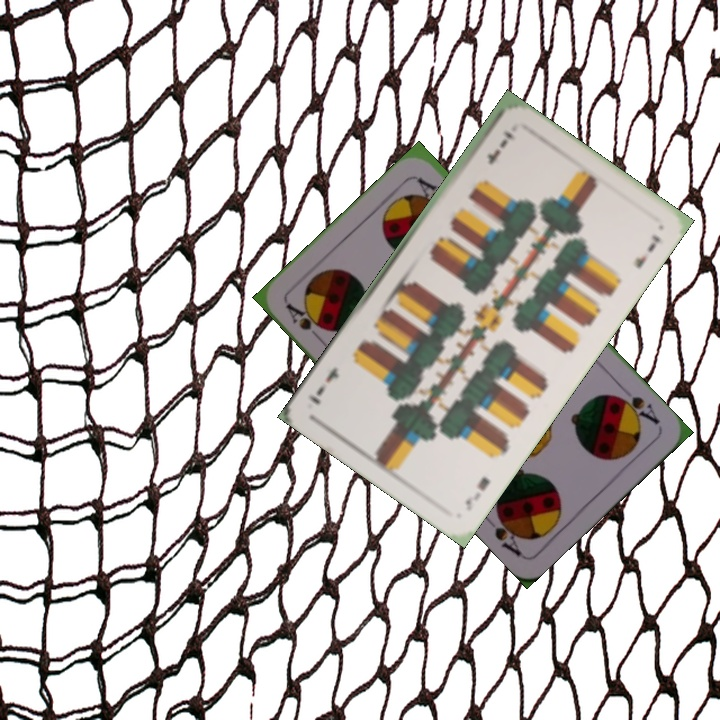E7: (482, 126, 516, 167), (460, 472, 493, 514)
SA: (281, 298, 332, 346), (610, 390, 663, 427)
